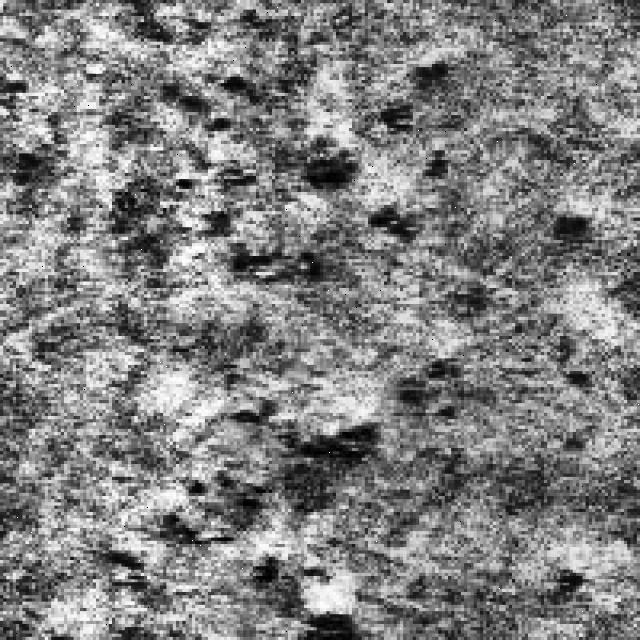Crazing: (124, 358, 436, 630), (163, 86, 387, 288)
